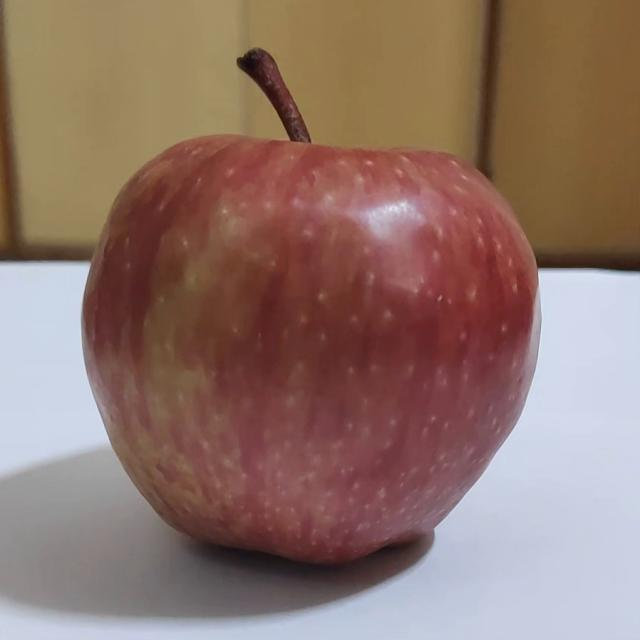apple: (80, 46, 544, 566)
